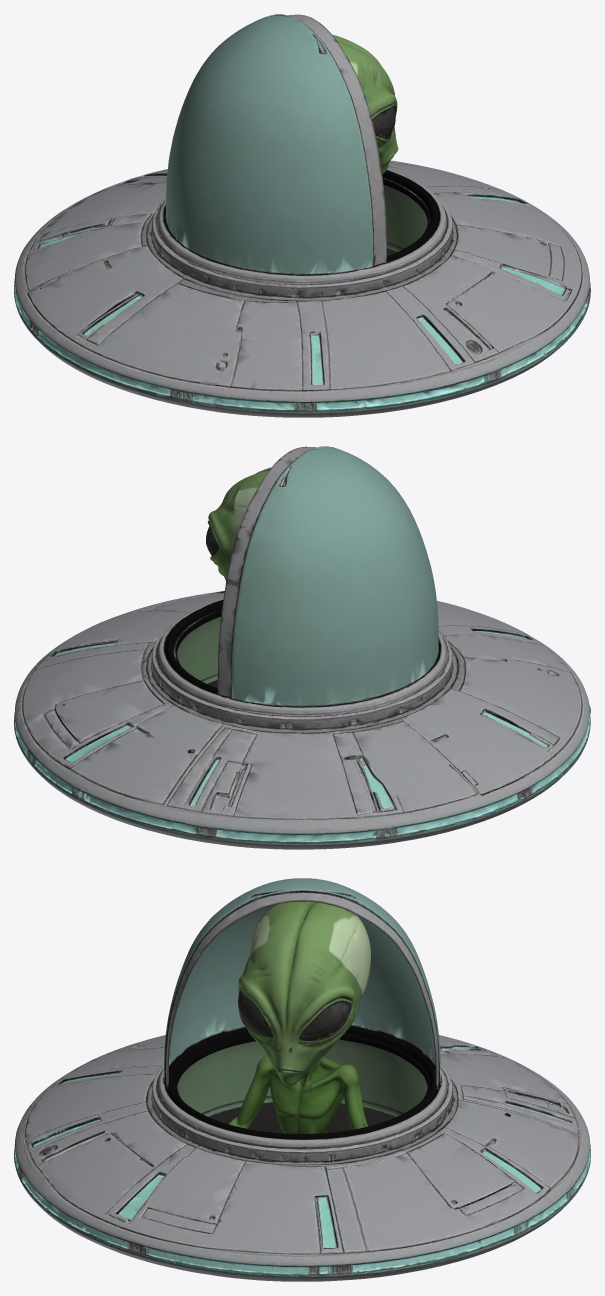
Rendered from ufo-optimized.glb.
The picture shows the model from 3 angles, top to bottom: view 1: azimuth 30°, elevation 25°; view 2: azimuth 150°, elevation 25°; view 3: azimuth 270°, elevation 25°; orthographic projection.
Visible parts, largest first — view 1: tripo_node_3f597b19-e957-4256-ac1a-531209209dad; view 2: tripo_node_3f597b19-e957-4256-ac1a-531209209dad; view 3: tripo_node_3f597b19-e957-4256-ac1a-531209209dad.
Part boxes in pixels (left/top/right/bottom): tripo_node_3f597b19-e957-4256-ac1a-531209209dad: left=14, top=14, right=590, bottom=417; tripo_node_3f597b19-e957-4256-ac1a-531209209dad: left=14, top=446, right=590, bottom=849; tripo_node_3f597b19-e957-4256-ac1a-531209209dad: left=14, top=878, right=590, bottom=1281.
Size of the model in its own units: 0.977 by 0.6344 by 0.9793.
1 material, 1 textured.
